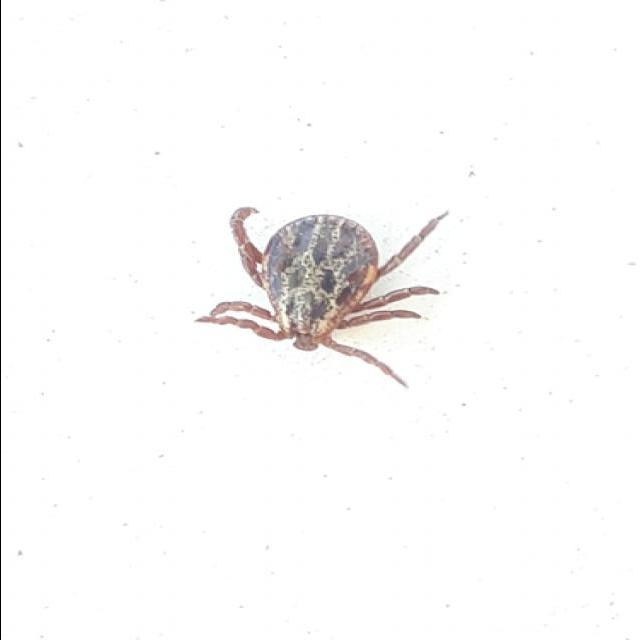Dermacentor Reticulatus-M: (195, 206, 446, 387)
